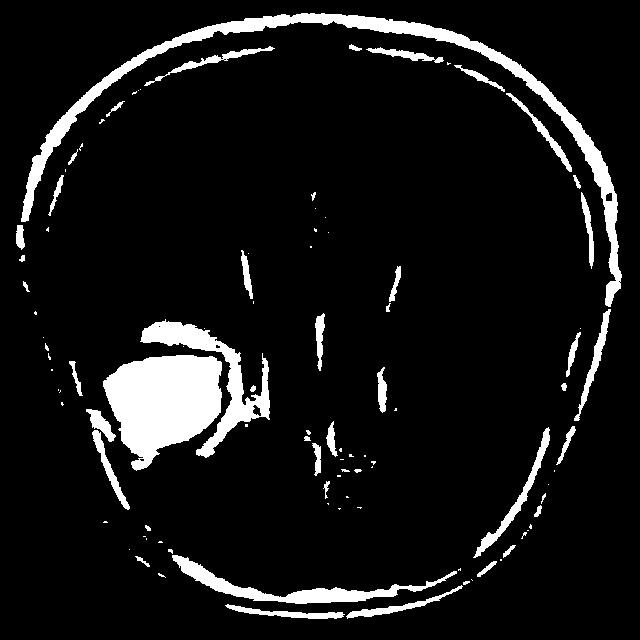Brain-Tumor: (88, 309, 296, 492)
